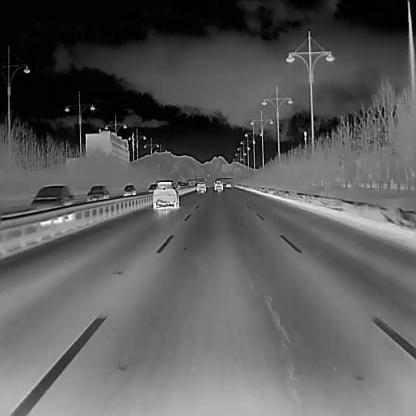car: (30, 184, 73, 208), (152, 179, 180, 210), (85, 182, 109, 202), (121, 182, 136, 196), (195, 178, 206, 192), (213, 179, 223, 193), (146, 182, 158, 192), (178, 178, 187, 188), (187, 179, 196, 186), (225, 180, 232, 188)
